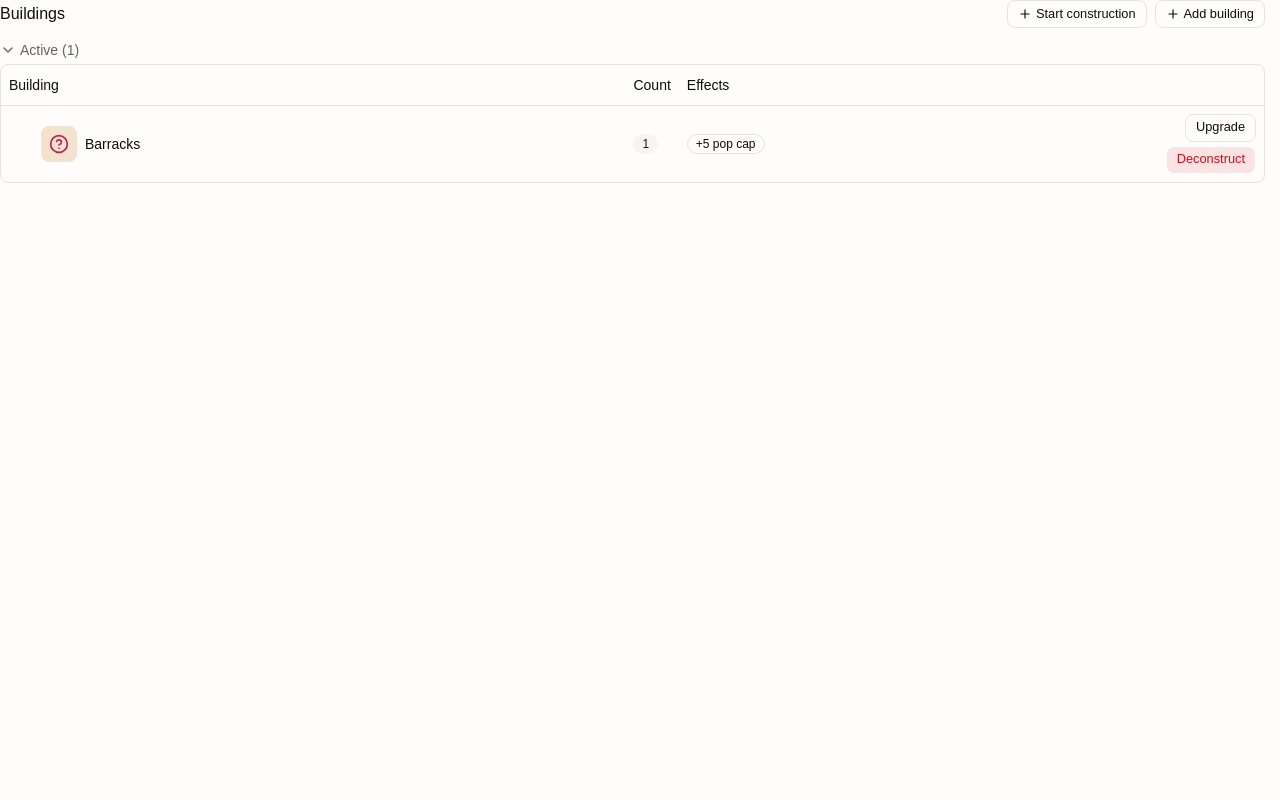
SettlementBuildingsPanel › opens confirm dialog when admin clicks deconstruct button
Expected: the text "Barracks" is shown, [41, 126, 140, 162]
Click the button with aria-label "Deconstruct Barracks" at (1211,160), box [1166, 146, 1256, 174]
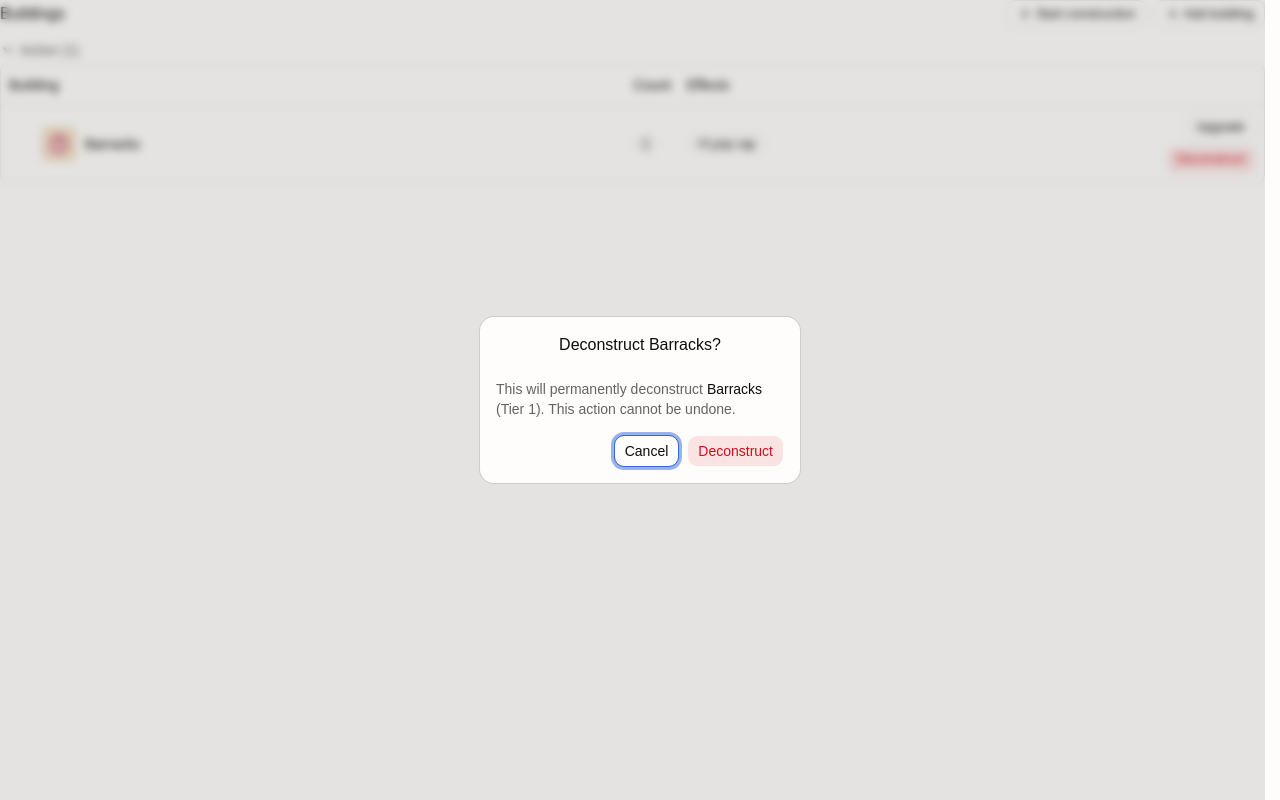
Result: the dialog "Deconstruct Barracks?" is shown at [480, 317, 800, 483]
